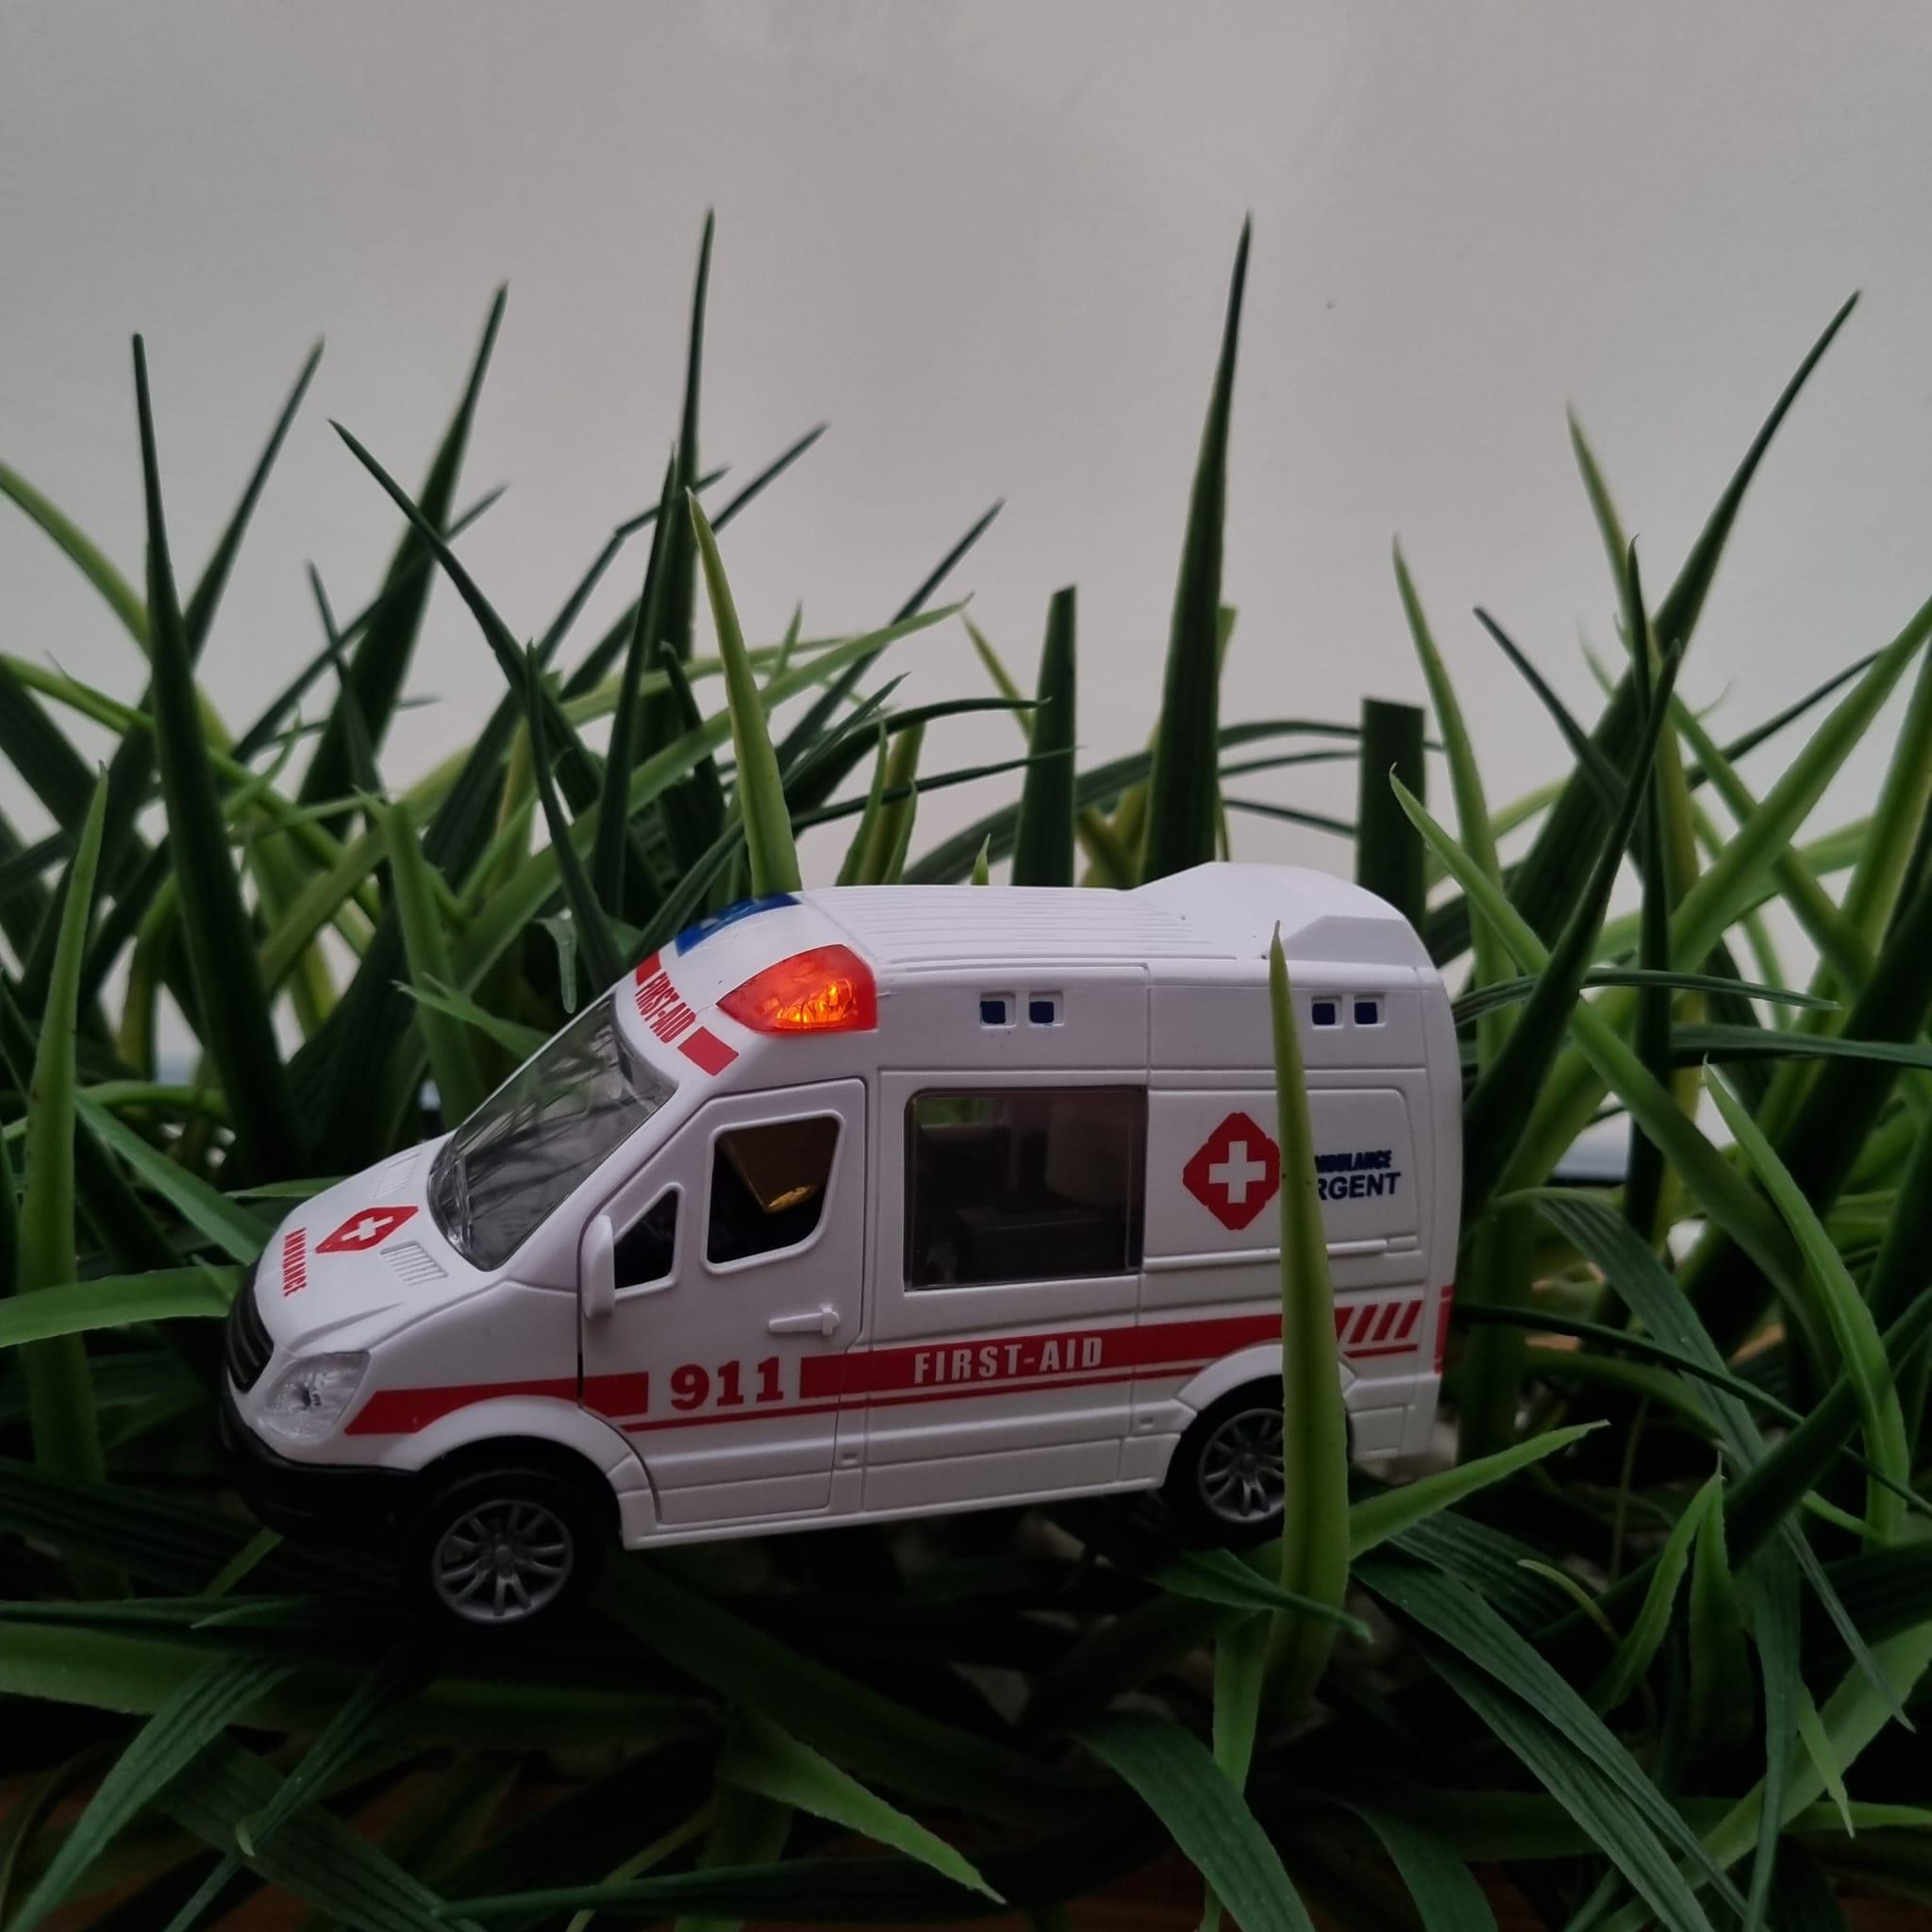ambulance_on: (214, 855, 1460, 1670)
